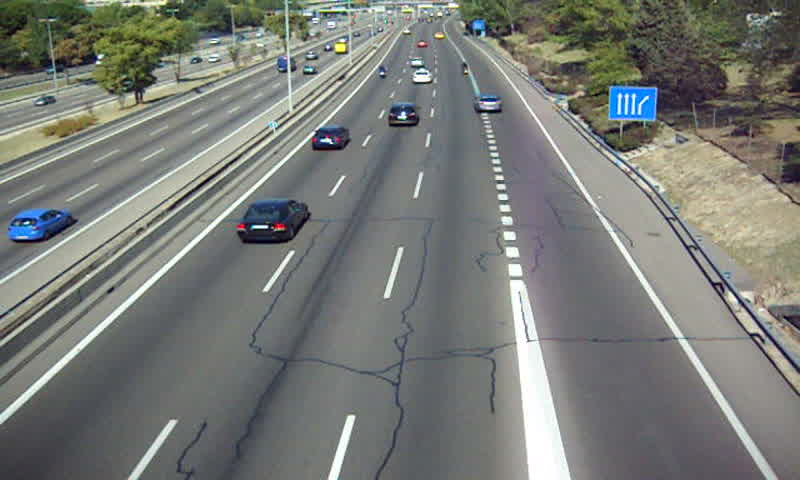car: (236, 198, 309, 242), (310, 125, 349, 150), (387, 102, 420, 129), (473, 96, 504, 115), (412, 68, 432, 85)
motorcycle: (461, 62, 472, 78), (378, 63, 388, 80)
